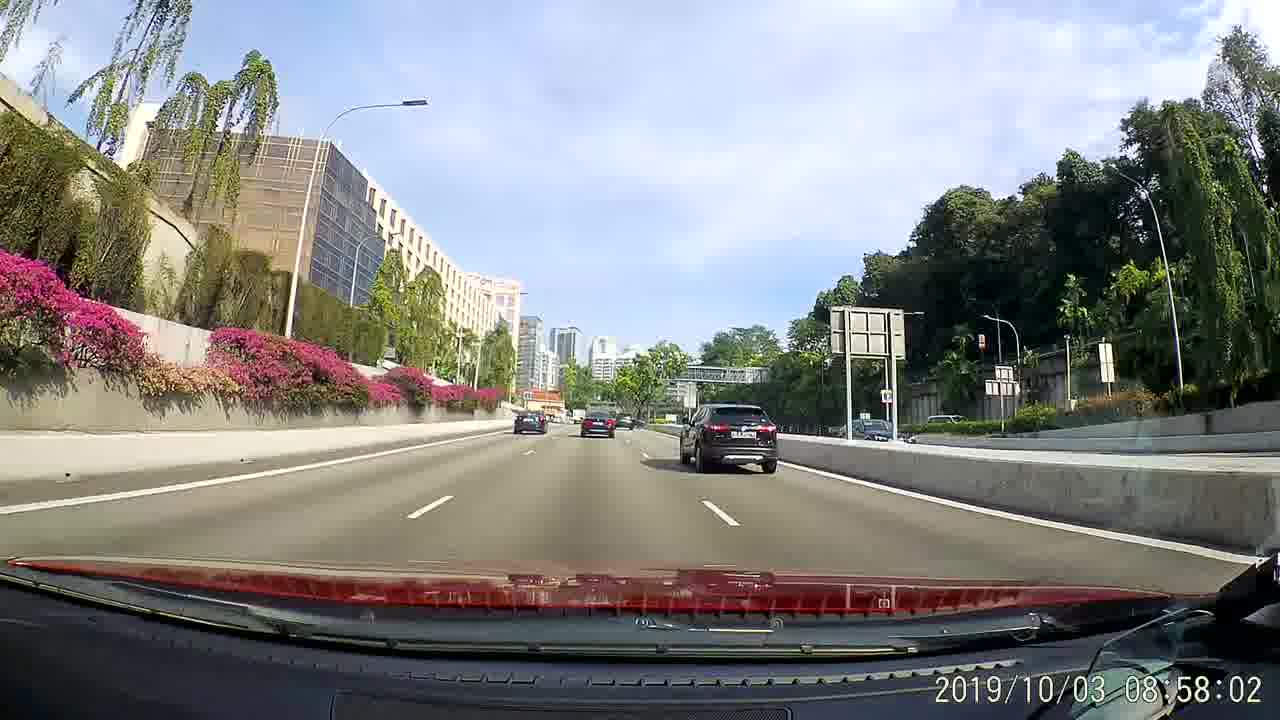car: (672, 402, 780, 476), (841, 416, 916, 438), (513, 408, 551, 439), (582, 409, 618, 437), (615, 409, 636, 429)
